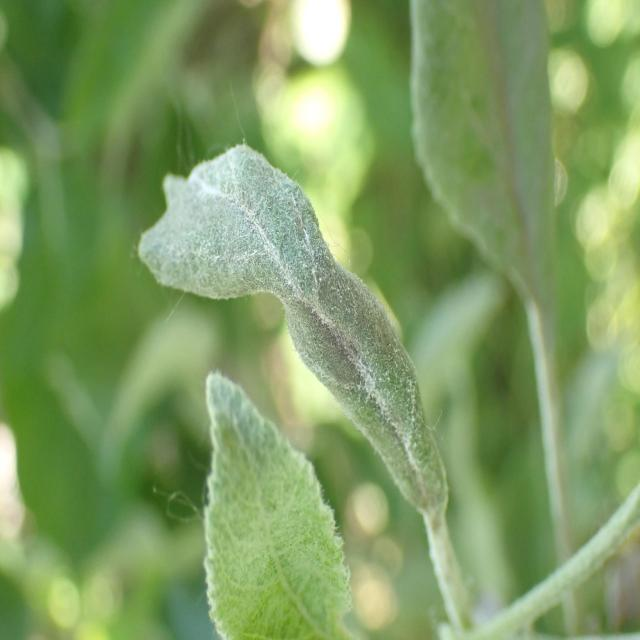Powdery_mildew: (107, 115, 470, 545), (398, 0, 577, 436)
